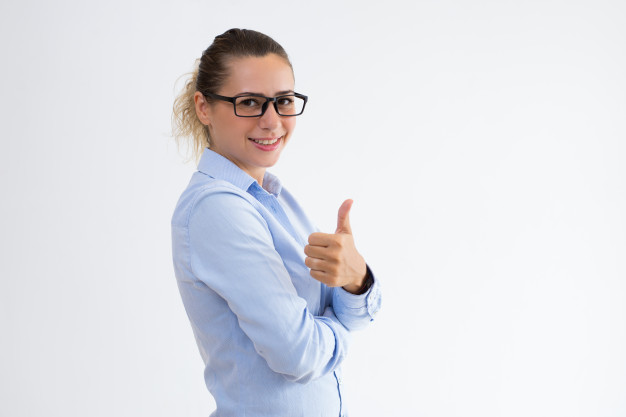thumbsup: (304, 198, 354, 287)
